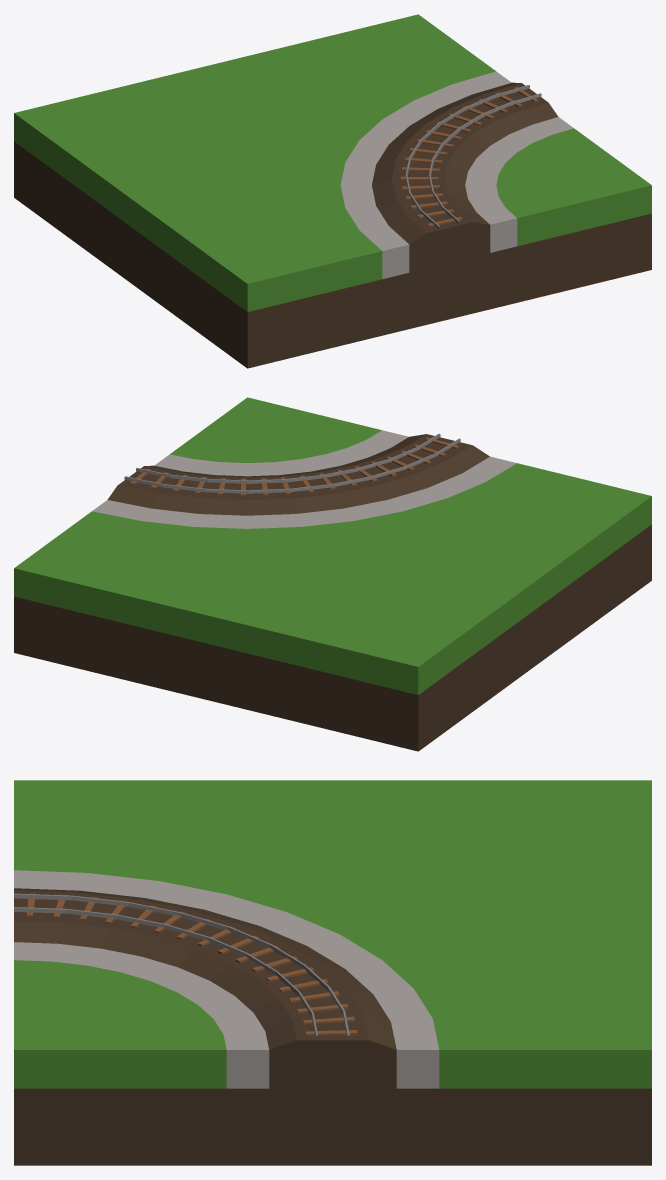
File: tile-rail-curve.glb
The picture shows the model from 3 angles, top to bottom: view 1: azimuth 30°, elevation 25°; view 2: azimuth 150°, elevation 25°; view 3: azimuth 270°, elevation 25°; orthographic projection. The views are drawn at different scales.
Visible parts, largest first — view 1: tile-rail-curve; view 2: tile-rail-curve; view 3: tile-rail-curve.
Part boxes in pixels (bbox=[...]): tile-rail-curve: bbox=[14, 14, 651, 368]; tile-rail-curve: bbox=[14, 397, 651, 751]; tile-rail-curve: bbox=[14, 780, 651, 1165].
Bounding box in the file's own units: 30.01 × 6.75 × 30.
1 material, 1 textured.
